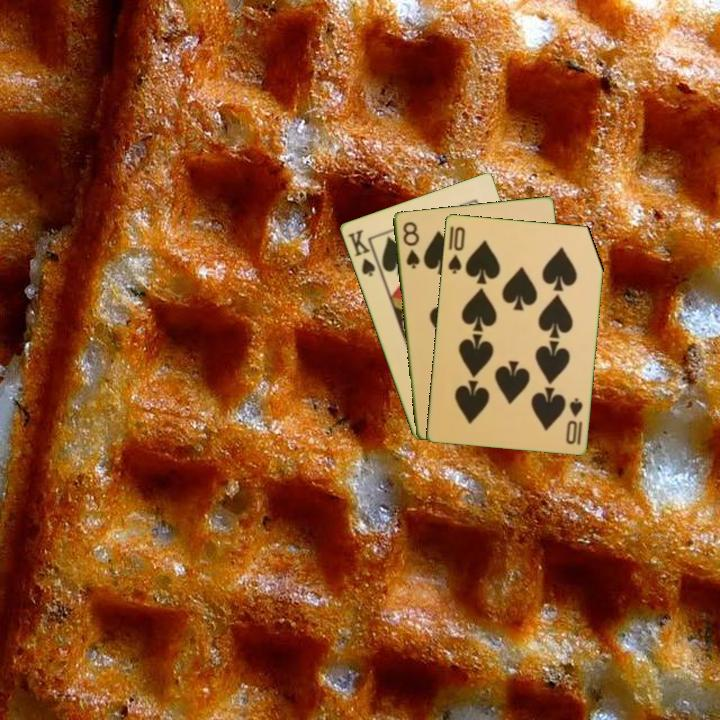10s: (444, 223, 468, 276), (562, 394, 585, 448)
8s: (399, 218, 422, 271)
Ks: (344, 226, 382, 279)
